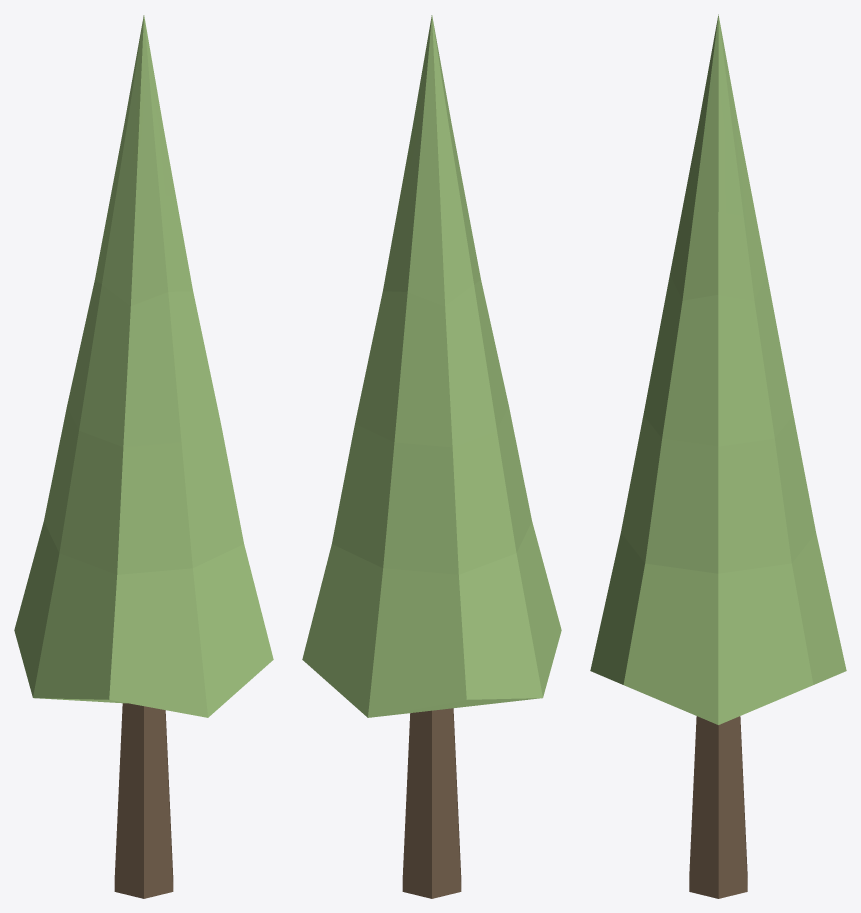
Rendered from treePine.gltf.
3 renders of one model, left to right at view 1: azimuth 30°, elevation 25°; view 2: azimuth 150°, elevation 25°; view 3: azimuth 270°, elevation 25°, orthographic.
Visible parts, largest first — view 1: treePine; view 2: treePine; view 3: treePine.
Part boxes in pixels (left/top/right/bottom): treePine: left=14, top=15, right=273, bottom=898; treePine: left=302, top=15, right=561, bottom=898; treePine: left=590, top=14, right=846, bottom=898.
Size of the model in its own units: 2.42 by 9.08 by 2.42.
